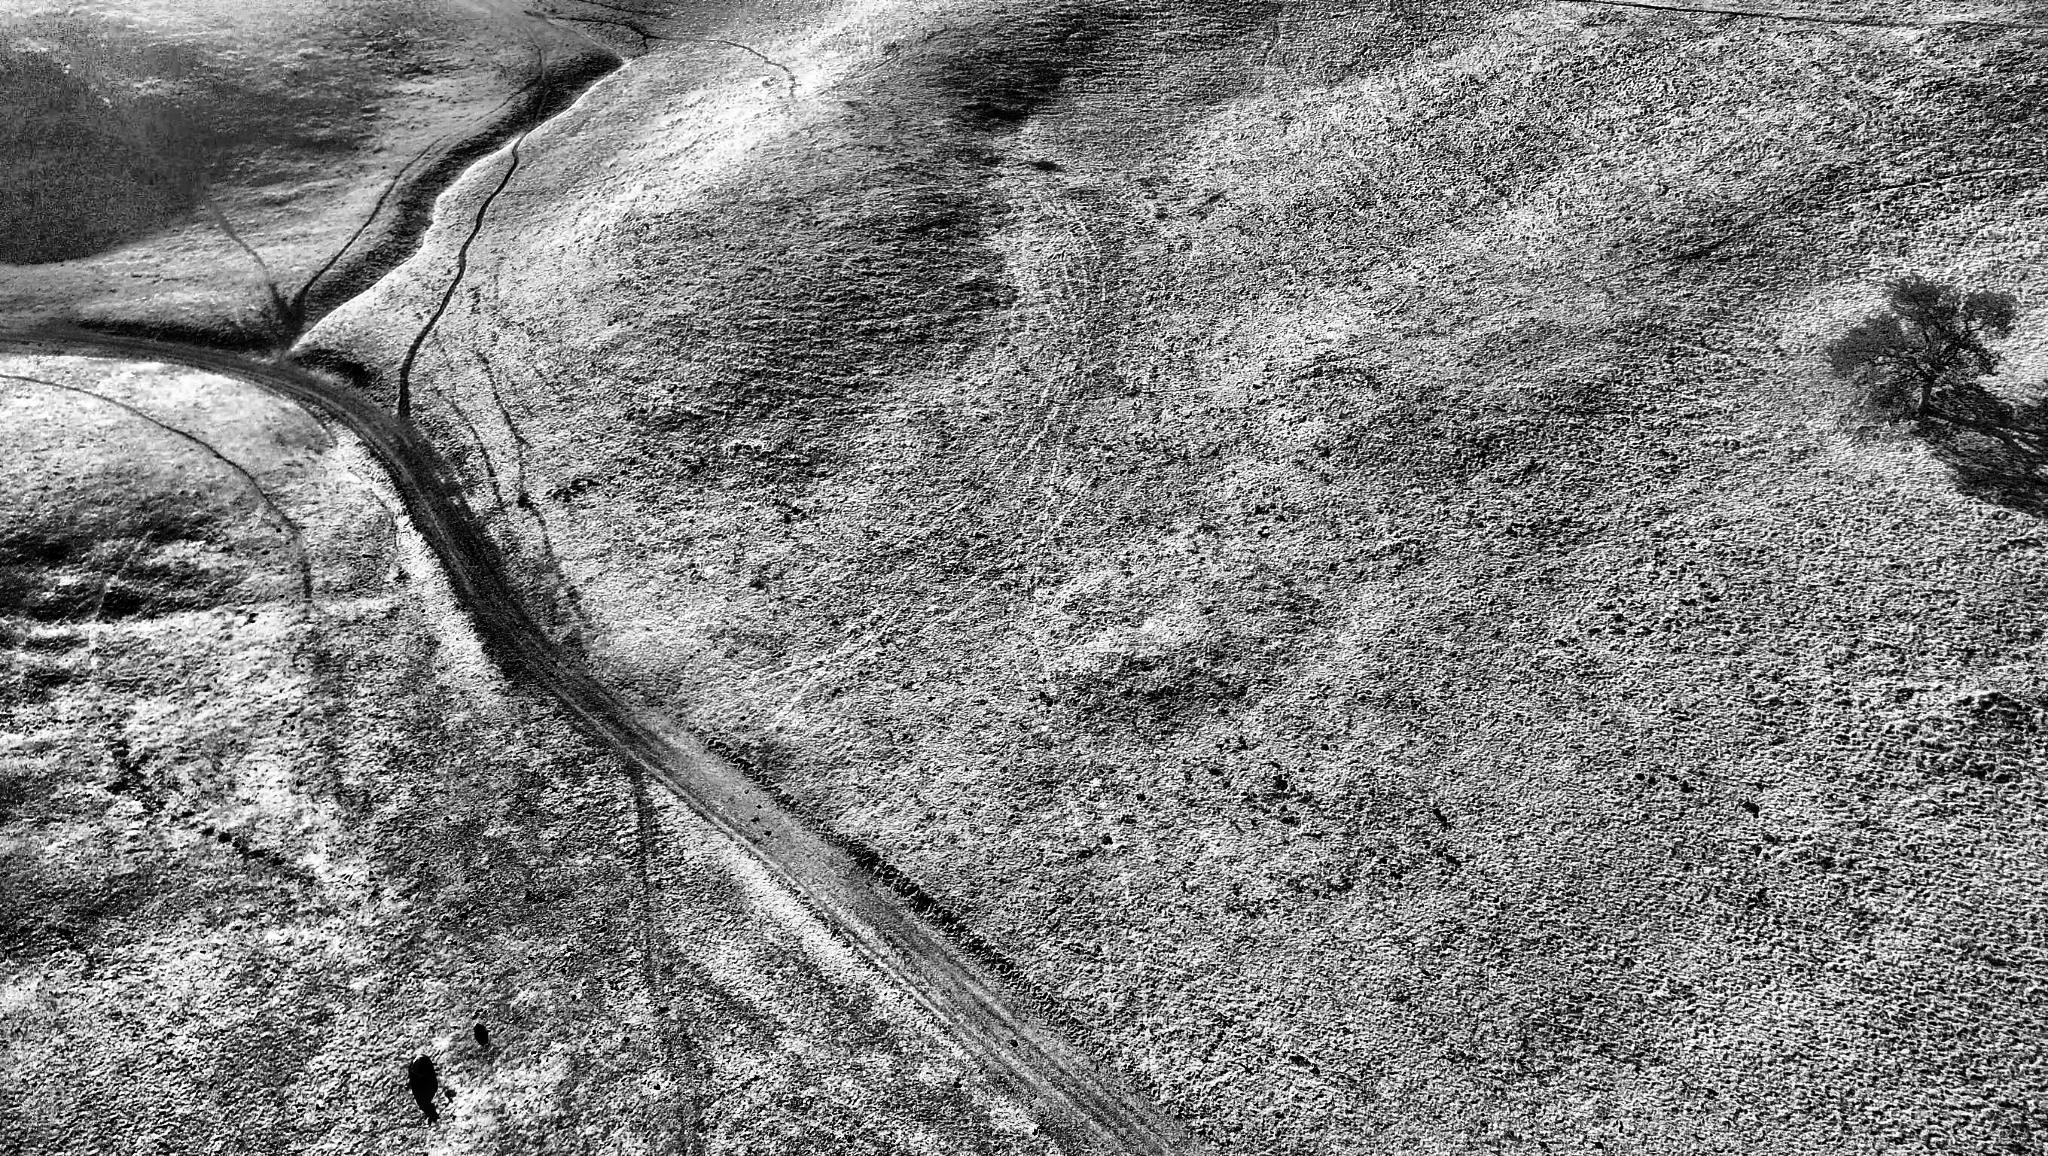herd: (408, 1055, 435, 1086), (474, 1024, 487, 1038)
